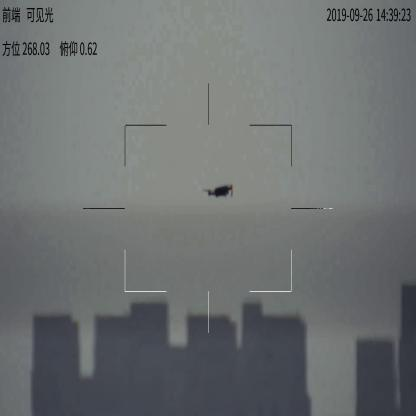uav: (204, 182, 235, 204)
